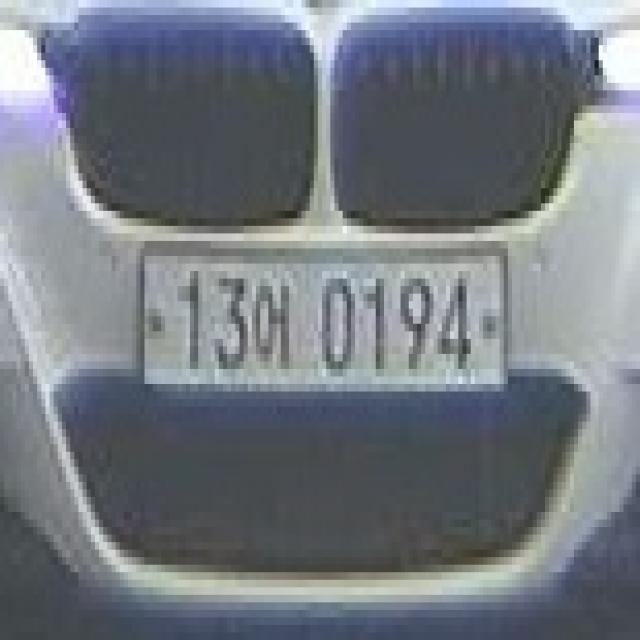0: (318, 271, 363, 392)
1: (169, 256, 211, 392), (359, 271, 392, 392)
3: (210, 271, 252, 392)
4: (438, 264, 483, 392)
9: (392, 271, 434, 384)
eo: (256, 271, 306, 399)
license_plate: (128, 234, 516, 414)
